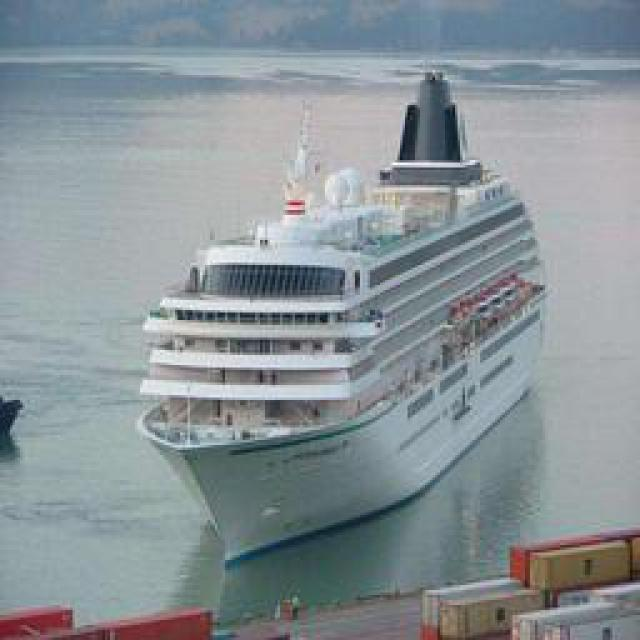Ship: (136, 62, 541, 582)
